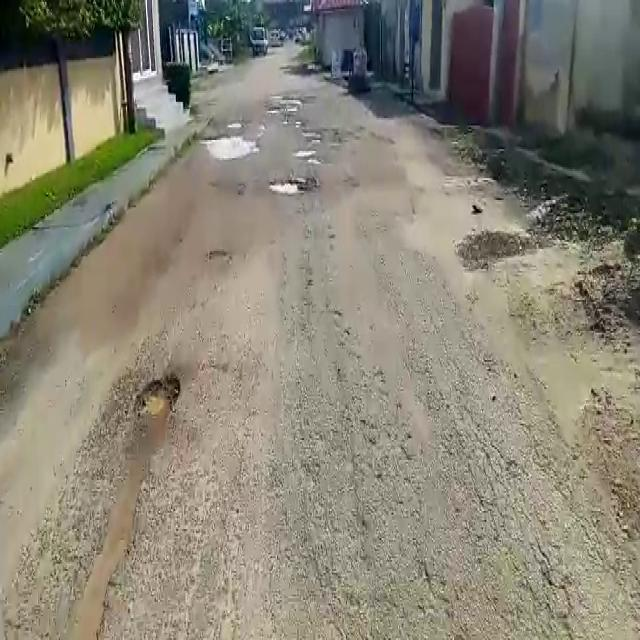pothole: (138, 375, 178, 425), (205, 130, 257, 158), (266, 179, 309, 198), (296, 149, 324, 160)
